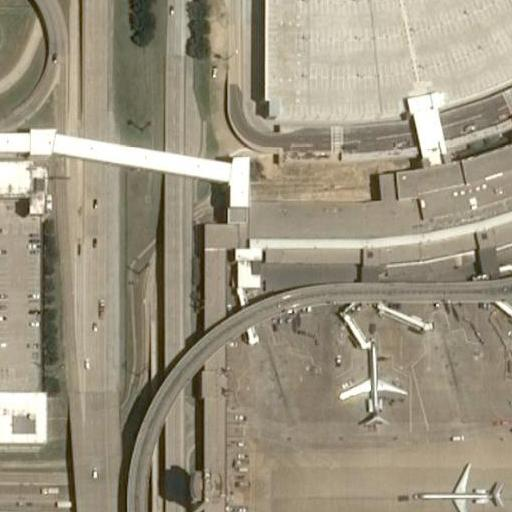Aircraft: (330, 337, 411, 432), (415, 453, 509, 512)
